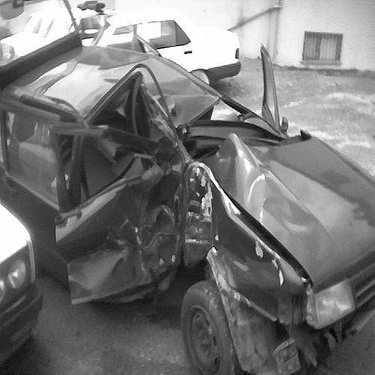car: (1, 2, 372, 372), (90, 12, 246, 92), (1, 199, 45, 372), (2, 1, 74, 62)
